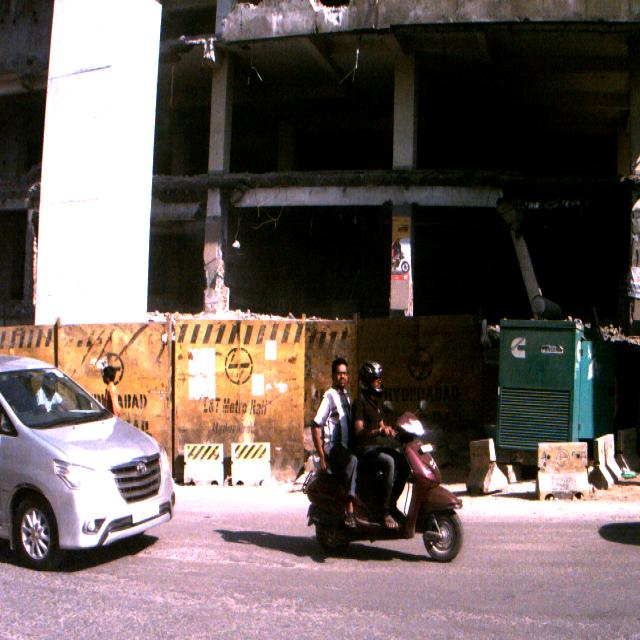car ahead at: (0, 334, 183, 551)
motorcycle ahead at: (298, 412, 459, 562)
